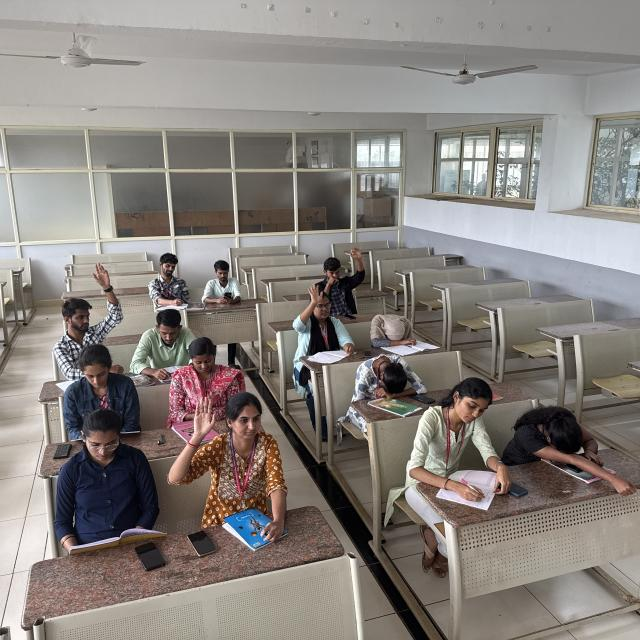Hand Rising: (172, 390, 286, 506), (56, 264, 119, 354), (292, 285, 349, 348), (322, 246, 362, 311)
Reading: (73, 412, 164, 545), (62, 346, 143, 442)
Sleeping: (506, 398, 606, 466), (352, 354, 427, 394), (364, 312, 420, 348)
Using Phone: (205, 261, 241, 305)
Writing: (436, 371, 500, 509), (150, 252, 188, 310)
